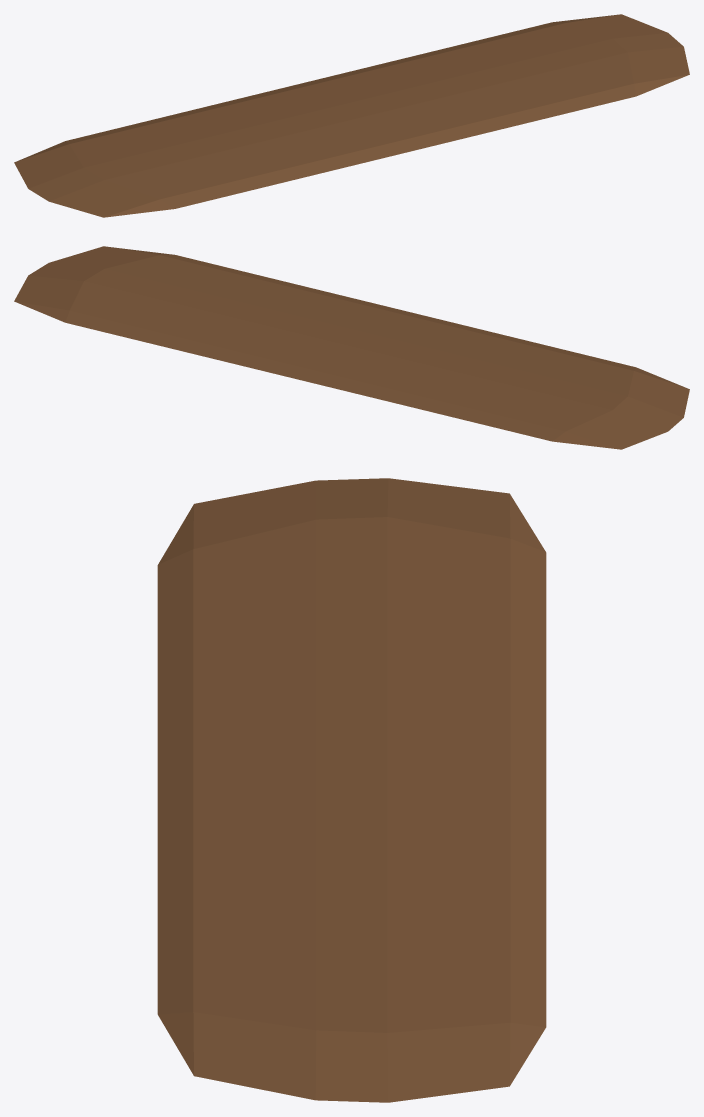
The model's file is DirtEdgeCover.fbx.
The picture shows the model from 3 angles, top to bottom: view 1: azimuth 30°, elevation 25°; view 2: azimuth 150°, elevation 25°; view 3: azimuth 270°, elevation 25°; orthographic projection. The views are drawn at different scales.
Parts seen in each view (by area): view 1: DirtEdgeCover; view 2: DirtEdgeCover; view 3: DirtEdgeCover.
Part boxes in pixels (x1,y1,x2,y2): DirtEdgeCover: (14, 14, 689, 217); DirtEdgeCover: (14, 246, 689, 449); DirtEdgeCover: (157, 478, 546, 1102).
Size of the model in its own units: 1.95 by 0.0337 by 0.5129.
Materials: 1 (1 with a texture image).
